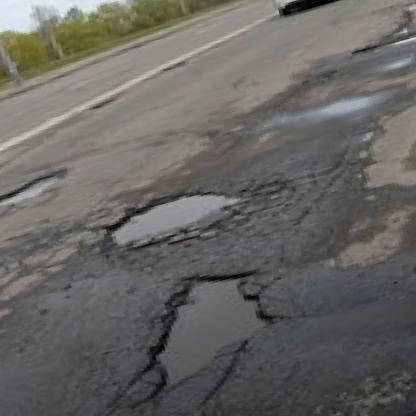pothole: (116, 255, 292, 403), (102, 178, 245, 251), (0, 165, 76, 217), (350, 28, 416, 60), (87, 87, 133, 112), (161, 55, 189, 73)
